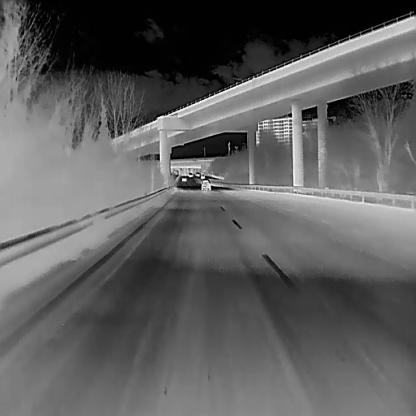car: (201, 179, 211, 190), (181, 176, 186, 181), (195, 172, 200, 176), (200, 173, 204, 178), (188, 172, 192, 176)
